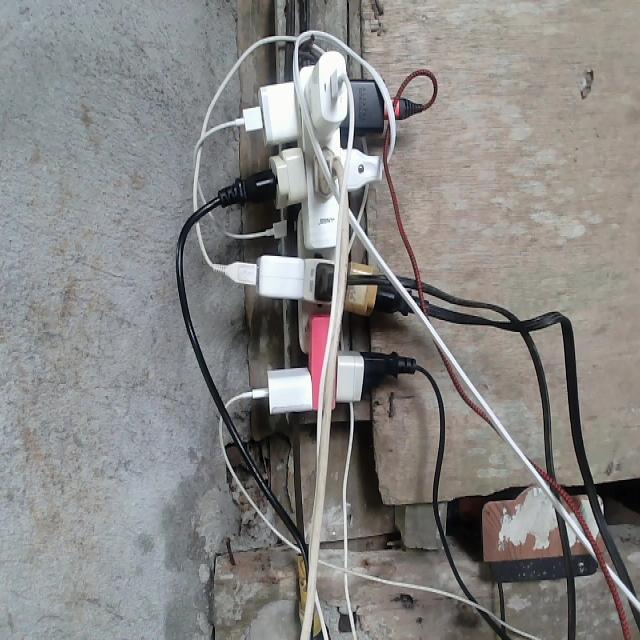-: (230, 49, 403, 419)
